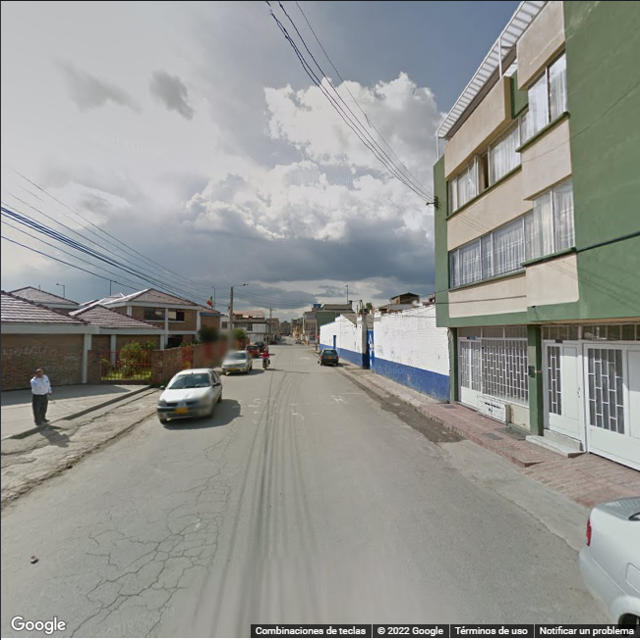D00: (140, 591, 174, 639), (67, 605, 105, 636)
D10: (87, 550, 121, 571)
D20: (128, 513, 222, 589)
